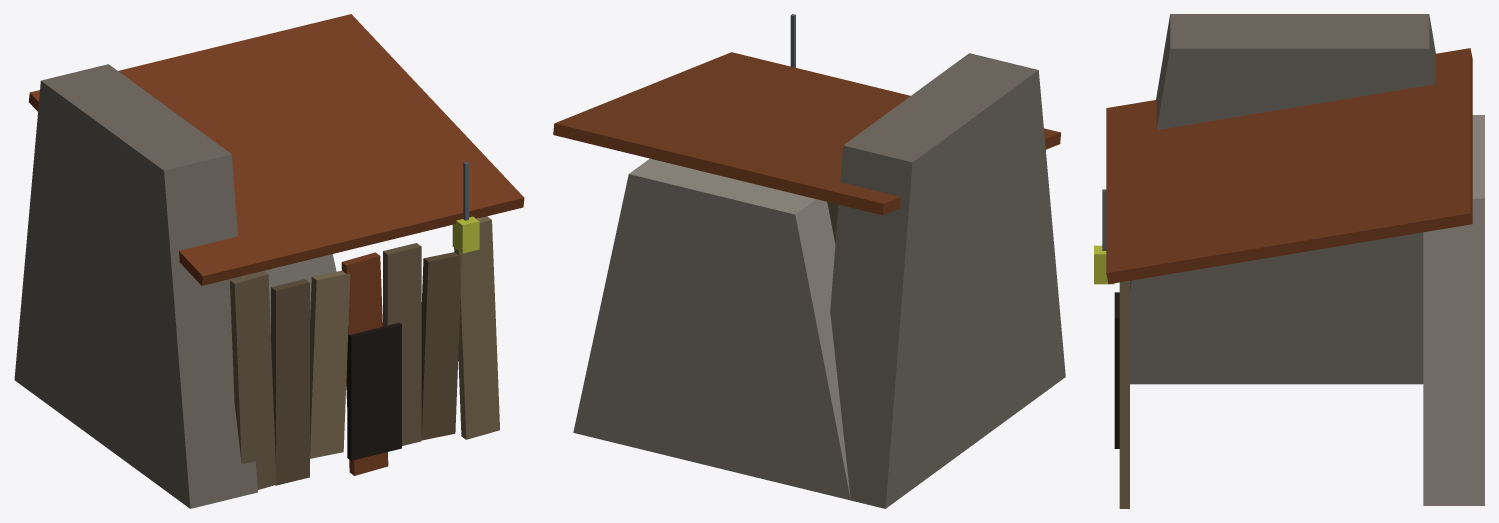
File: ratfolk_house_a_broken.glb
The picture shows the model from 3 angles, left to right: view 1: azimuth 30°, elevation 25°; view 2: azimuth 150°, elevation 25°; view 3: azimuth 270°, elevation 25°; orthographic projection. The views are drawn at different scales.
Parts seen in each view (by area): view 1: ratfolk_house_a_piece4, ratfolk_house_a_piece2, ratfolk_house_a_piece6, ratfolk_house_a_piece0, ratfolk_house_a_piece1, ratfolk_house_a_piece9, ratfolk_house_a_piece8, ratfolk_house_a_piece3, ratfolk_house_a_piece7; view 2: ratfolk_house_a_piece1, ratfolk_house_a_piece0, ratfolk_house_a_piece6, ratfolk_house_a_piece4, ratfolk_house_a_piece7, ratfolk_house_a_piece9, ratfolk_house_a_piece2, ratfolk_house_a_piece8, ratfolk_house_a_piece3; view 3: ratfolk_house_a_piece1, ratfolk_house_a_piece0, ratfolk_house_a_piece6, ratfolk_house_a_piece4, ratfolk_house_a_piece2, ratfolk_house_a_piece9, ratfolk_house_a_piece7, ratfolk_house_a_piece8, ratfolk_house_a_piece3.
Part boxes in pixels (x1,y1,x2,y2): ratfolk_house_a_piece4: (100,140,405,485); ratfolk_house_a_piece2: (209,140,523,444); ratfolk_house_a_piece6: (52,175,276,508); ratfolk_house_a_piece0: (28,64,344,249); ratfolk_house_a_piece1: (14,14,402,420); ratfolk_house_a_piece9: (270,120,524,202); ratfolk_house_a_piece8: (279,68,499,439); ratfolk_house_a_piece3: (172,91,497,435); ratfolk_house_a_piece7: (27,85,173,443); ratfolk_house_a_piece1: (553,102,942,508); ratfolk_house_a_piece0: (774,67,995,318); ratfolk_house_a_piece6: (924,170,1065,442); ratfolk_house_a_piece4: (951,58,1060,288); ratfolk_house_a_piece7: (792,161,974,466); ratfolk_house_a_piece9: (688,14,834,132); ratfolk_house_a_piece2: (738,19,991,243); ratfolk_house_a_piece8: (607,73,750,131); ratfolk_house_a_piece3: (679,70,812,163); ratfolk_house_a_piece1: (1307,80,1484,505); ratfolk_house_a_piece0: (1190,14,1472,187); ratfolk_house_a_piece6: (1130,247,1331,384); ratfolk_house_a_piece4: (1106,14,1264,448); ratfolk_house_a_piece2: (1094,37,1231,441); ratfolk_house_a_piece9: (1102,160,1329,283); ratfolk_house_a_piece7: (1246,58,1472,384); ratfolk_house_a_piece8: (1119,166,1361,508); ratfolk_house_a_piece3: (1119,116,1415,451).
Bounding box in the file's own units: 1.95 × 1.85 × 1.9.
